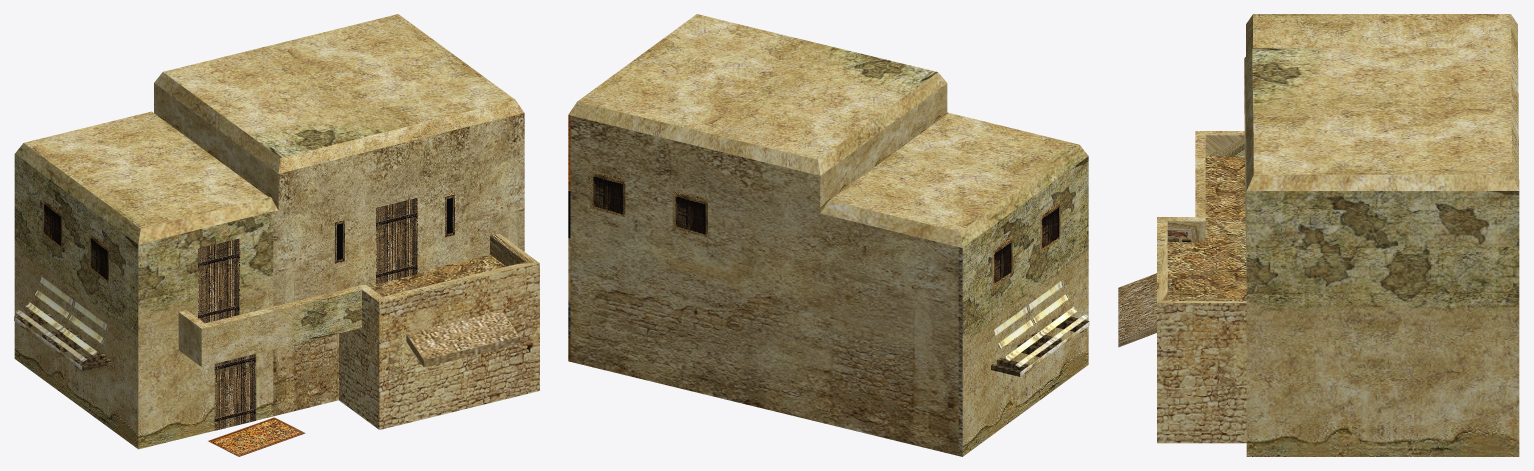
The model's file is pers_alt_build_05.dae.
3 views of the same model, side by side, from view 1: azimuth 30°, elevation 25°; view 2: azimuth 150°, elevation 25°; view 3: azimuth 270°, elevation 25° (orthographic). The views are drawn at different scales.
Visible parts, largest first — view 1: Object12; view 2: Object12; view 3: Object12.
Boxes of the visible parts, <box> form: Object12: <box>14,14,539,456</box>; Object12: <box>568,14,1089,456</box>; Object12: <box>1118,14,1519,456</box>.
Size of the model in its own units: 17.59 by 13.4 by 10.28.
